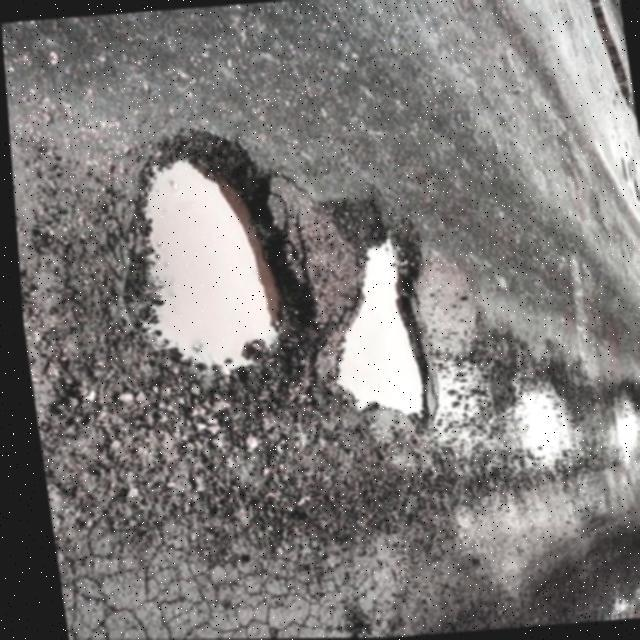pothole: (99, 132, 313, 388), (294, 224, 446, 431), (494, 363, 590, 472), (598, 384, 640, 462)
